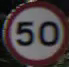Speed limit: (5, 4, 64, 61)
